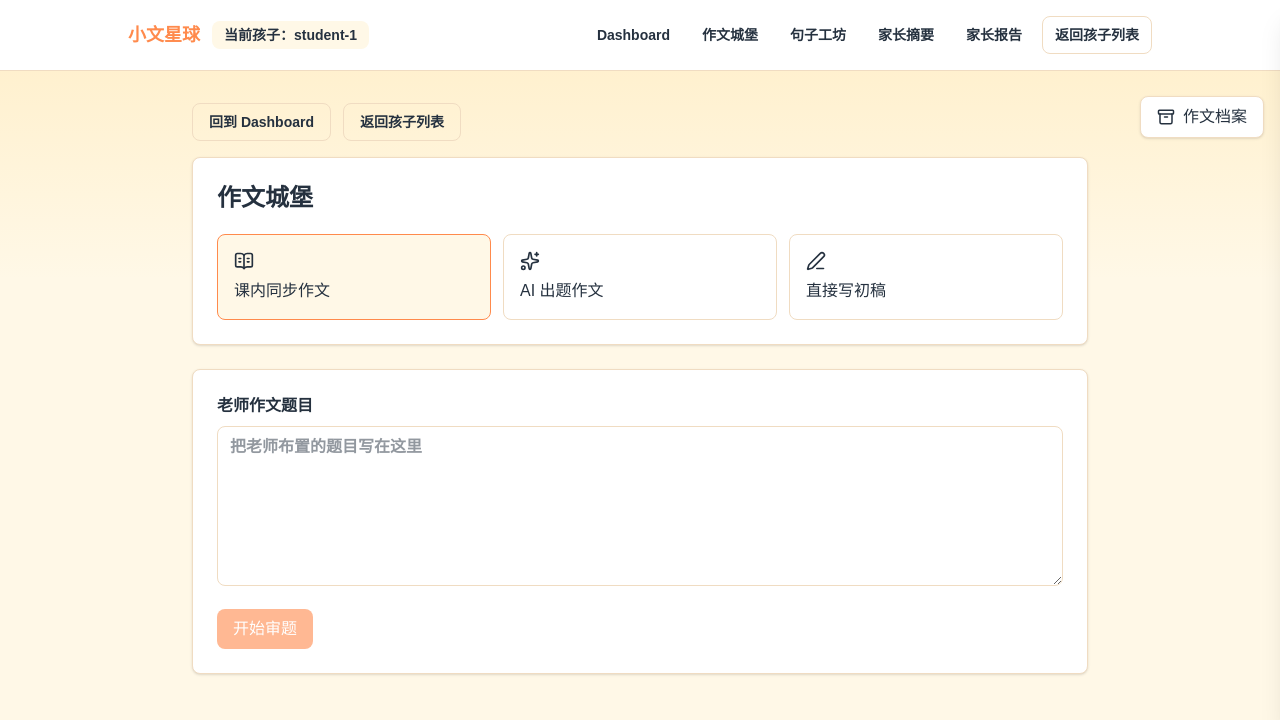
Test case: ai topic generation failure shows retry without fallback topic cards
What coordinates should you click on to do the following:
click the button "AI 出题作文"
I would click on:
 (562, 290)
Its box is [503,234,777,320].
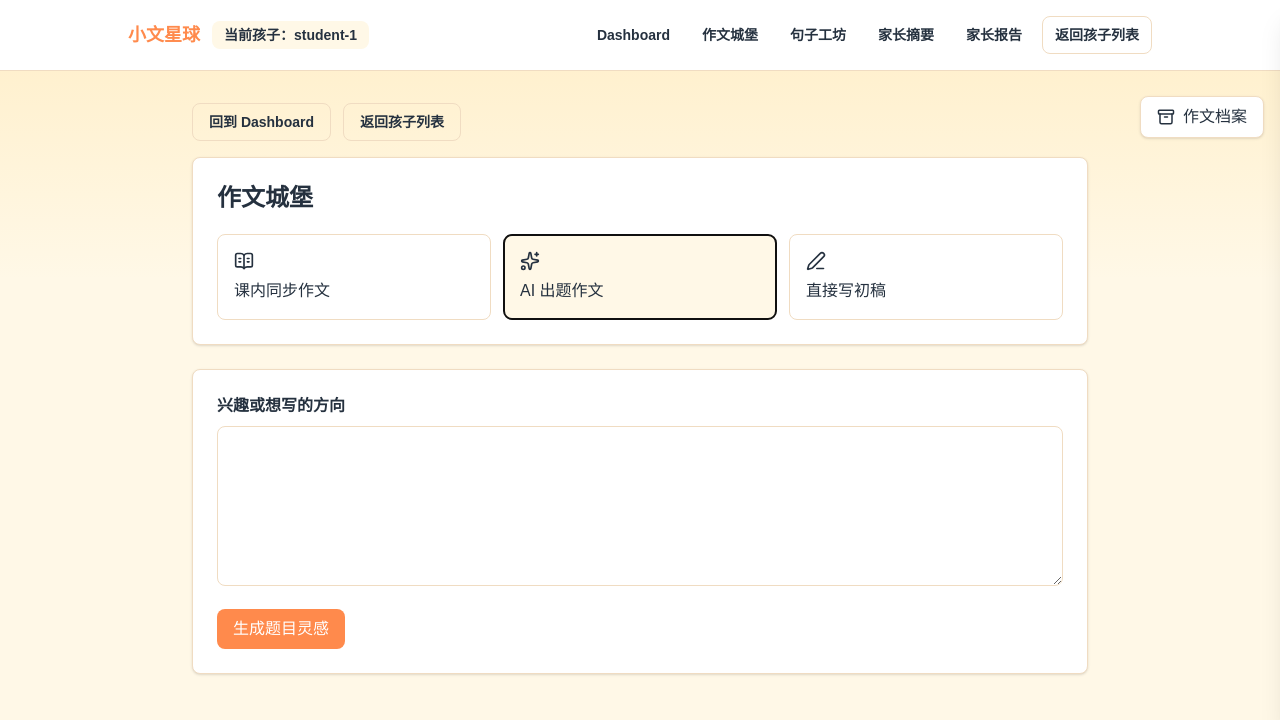
What coordinates should you click on to do the following:
click the button "生成题目灵感"
I would click on:
 (281, 629)
Its box is [217,609,345,649].
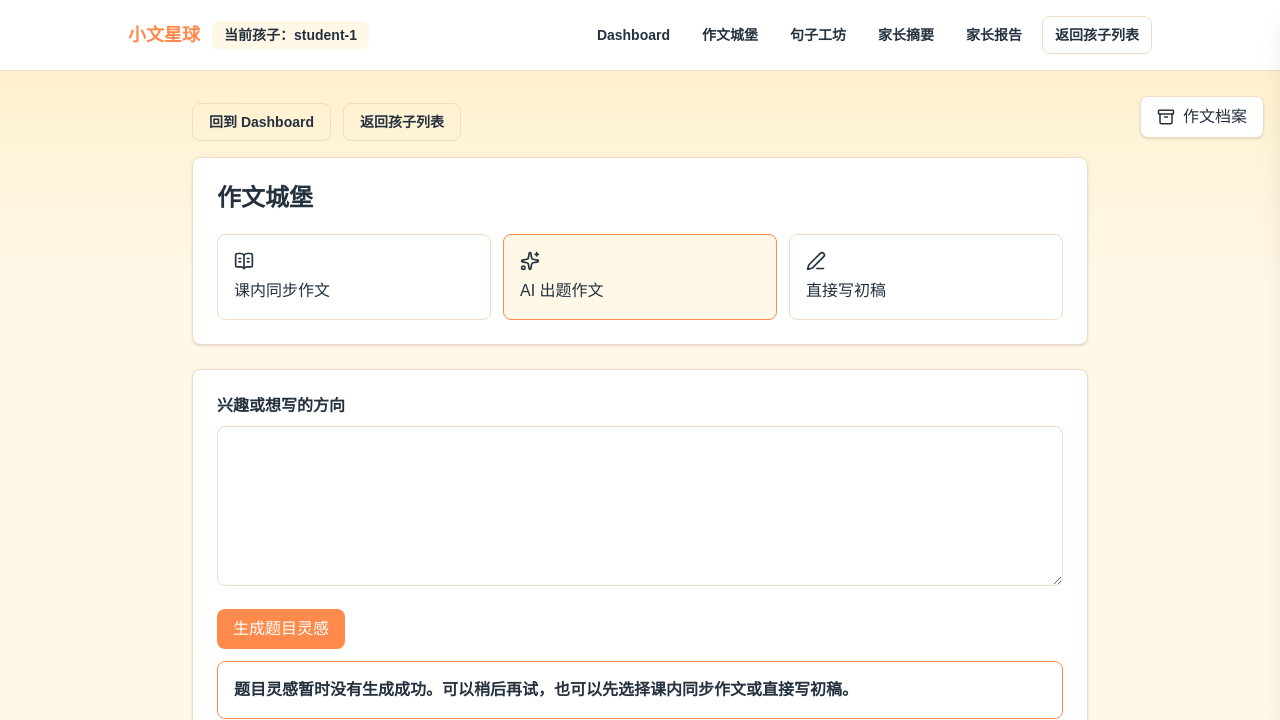
Now the message shows "题目灵感暂时没有生成成功", box [234,681,858,698]
